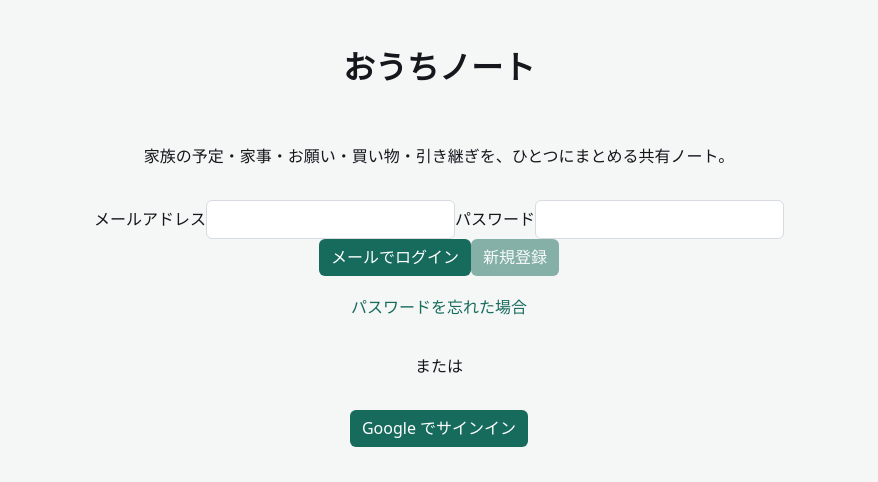
Test: SignIn email/password auth › explains email_not_confirmed without advancing the signed-in screen
This screenshot has width=878, height=482.
Type "mama@example.com" into the field labelled "メールアドレス".
click(330, 220); type("mama@example.com")  # box [206,200,455,239]
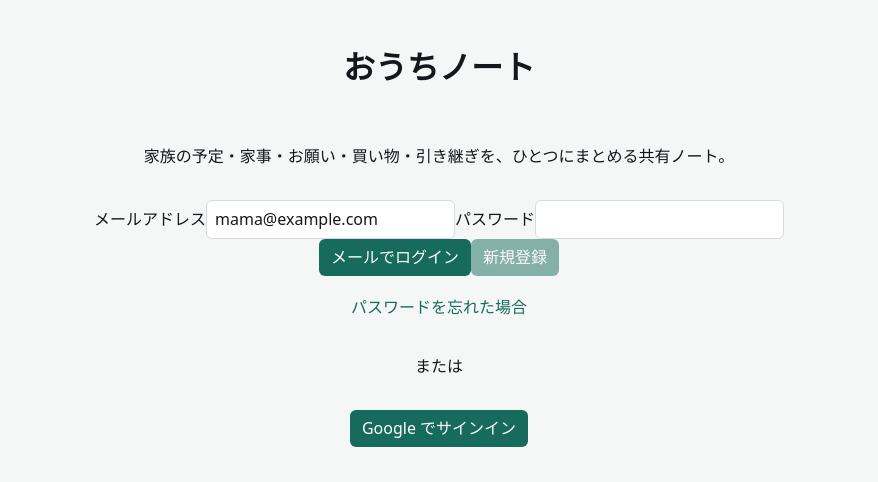
Type "secret12" into the password field labelled "パスワード".
click(660, 220); type("secret12")  # box [535,200,784,239]
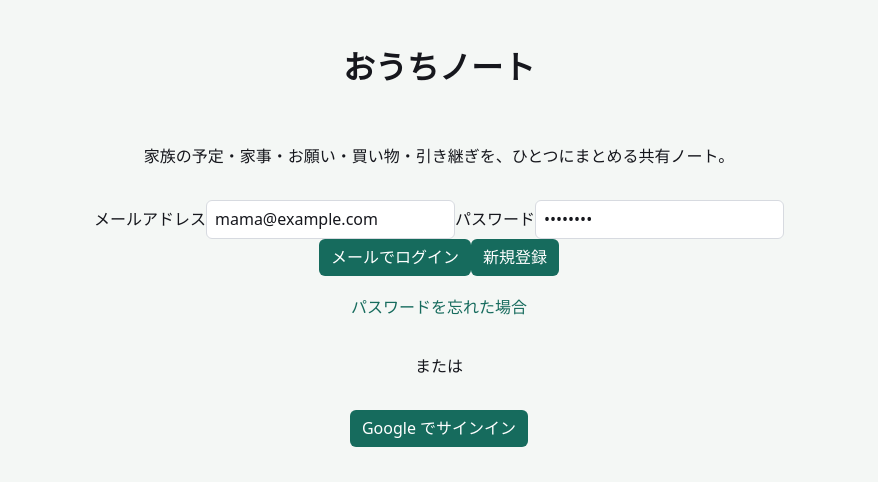
Click the button "メールでログイン".
click(395, 257)  # box [319,239,471,276]
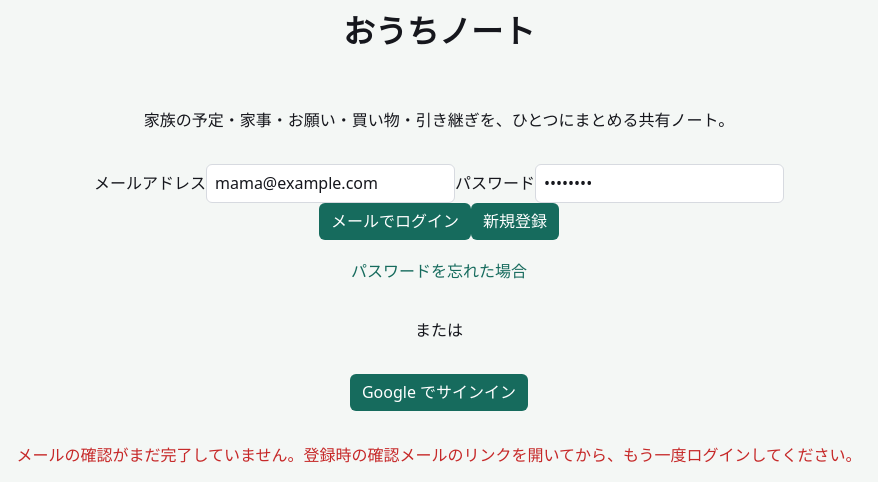
Now the message shows "メールの確認がまだ完了していません。", box [16,444,862,466]
